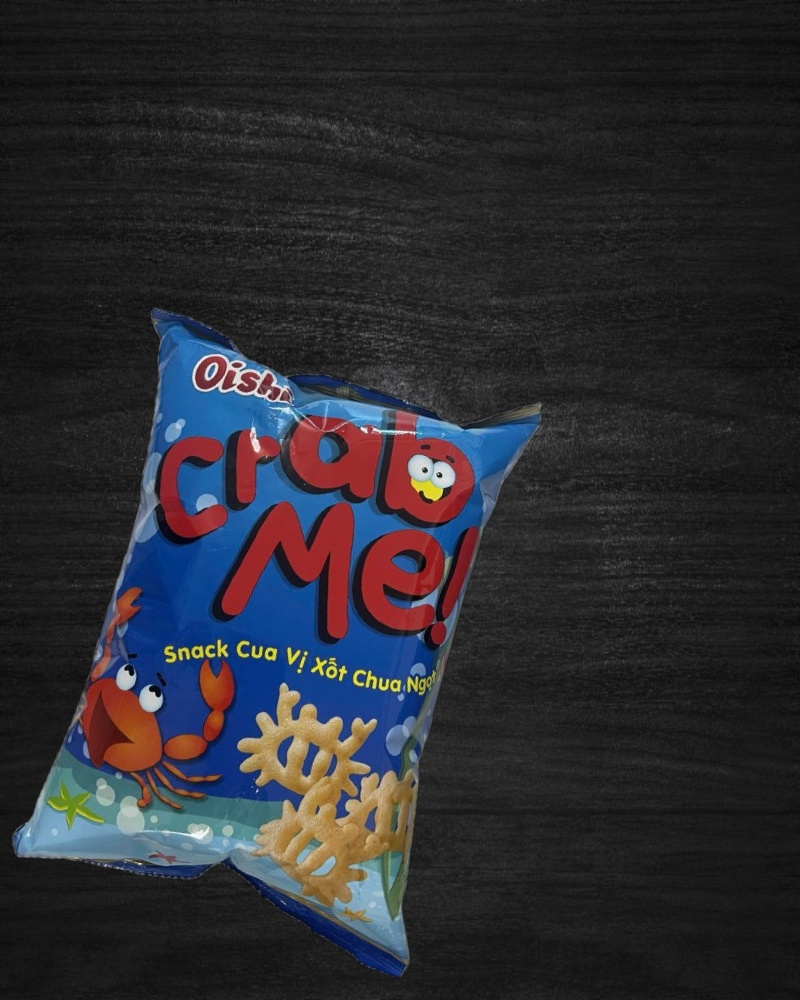Snack cua: (3, 300, 558, 974)
